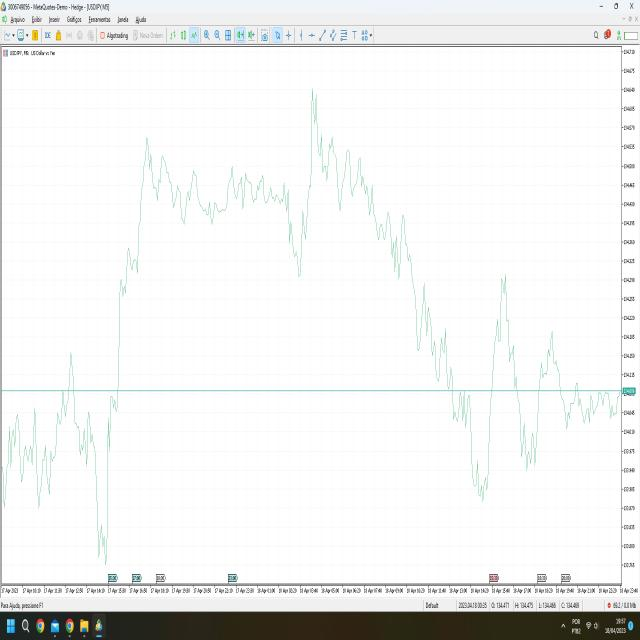fundo_duplo: (88, 481, 125, 577), (31, 428, 61, 518)
oco_inv: (508, 406, 555, 478)
topo_duplo: (436, 320, 450, 399)
